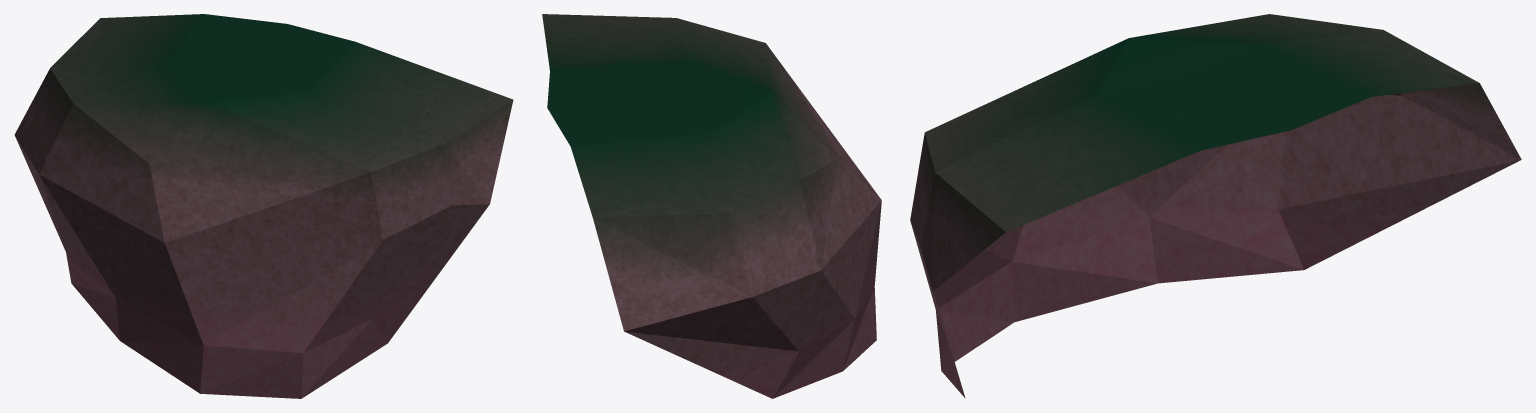
File: cliff.fbx
3 views of the same model, side by side, from view 1: azimuth 30°, elevation 25°; view 2: azimuth 150°, elevation 25°; view 3: azimuth 270°, elevation 25° (orthographic). The views are drawn at different scales.
Parts seen in each view (by area): view 1: pCube1; view 2: pCube1; view 3: pCube1.
Boxes of the visible parts, x1,y1,x2,y2 form: pCube1: (14, 14, 513, 398); pCube1: (542, 14, 881, 398); pCube1: (910, 14, 1521, 398).
Size of the model in its own units: 2.25 by 1.46 by 2.52.
Materials: 1 (1 with a texture image).
